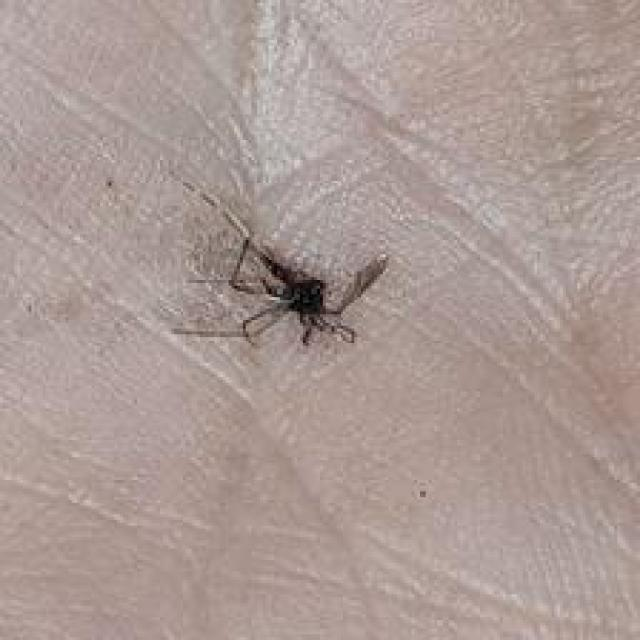Aedes albopictus: (170, 180, 390, 351)
